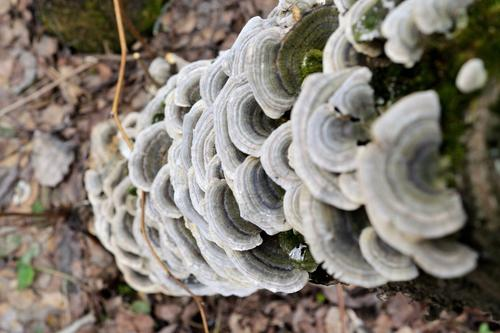poisonous_mushroom: (83, 0, 482, 298), (356, 88, 469, 254)
